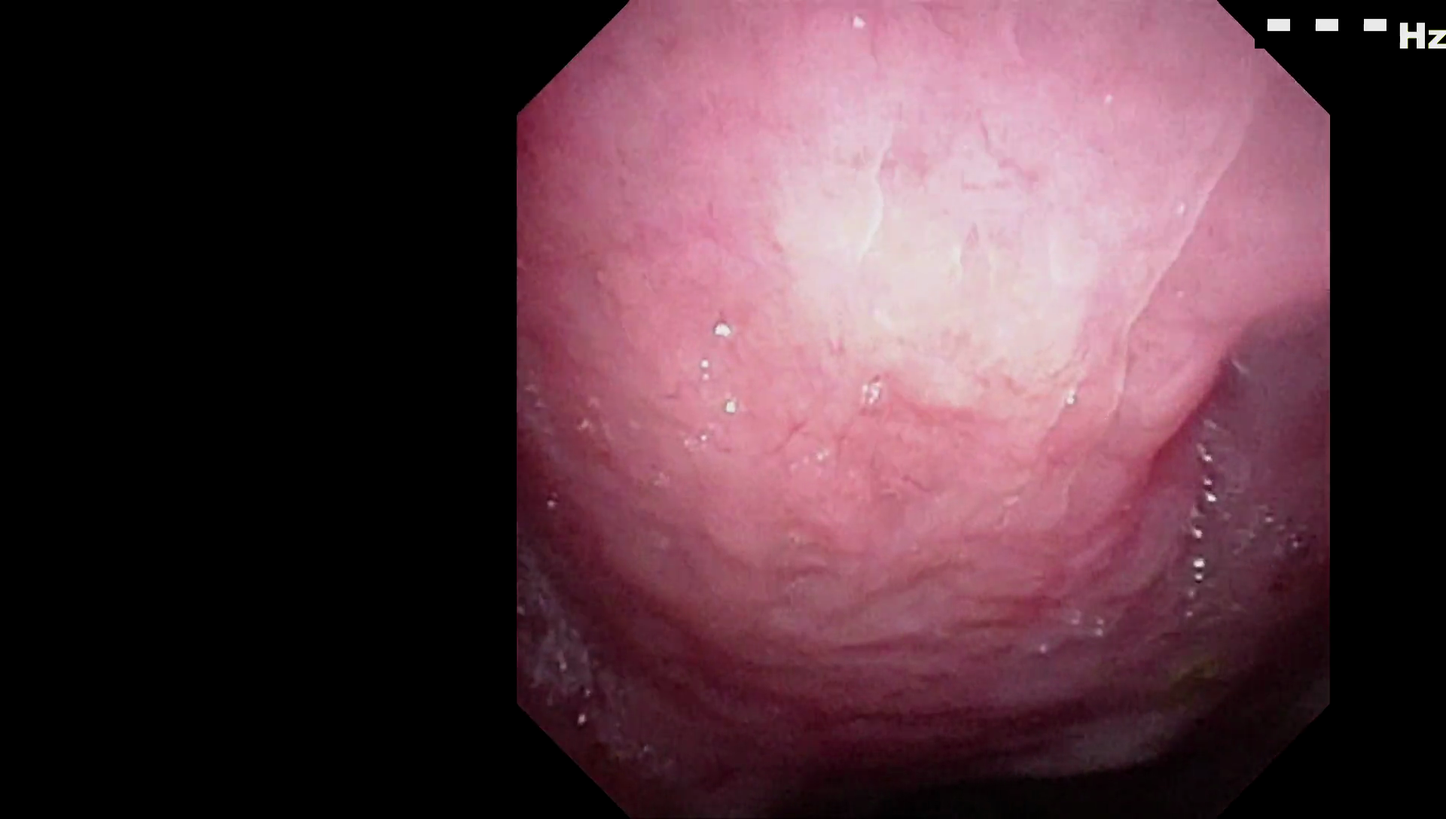close_wall: (609, 53, 1253, 543)
next: (737, 648, 1315, 819)
